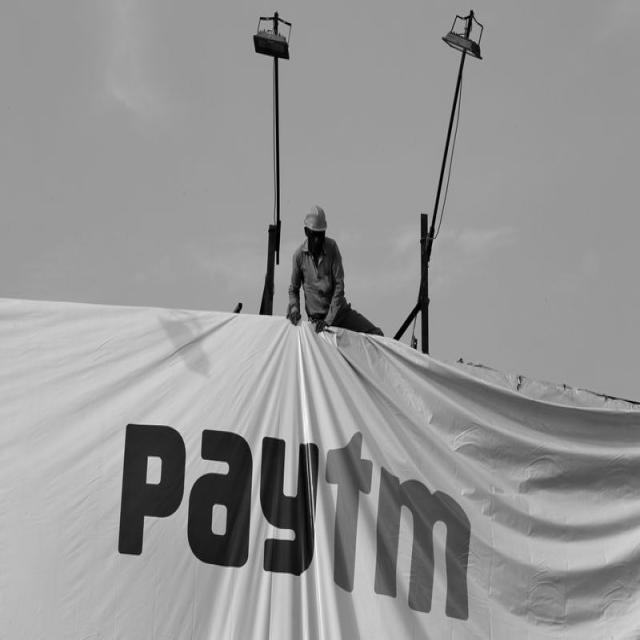fully_visible: (104, 411, 480, 622)
